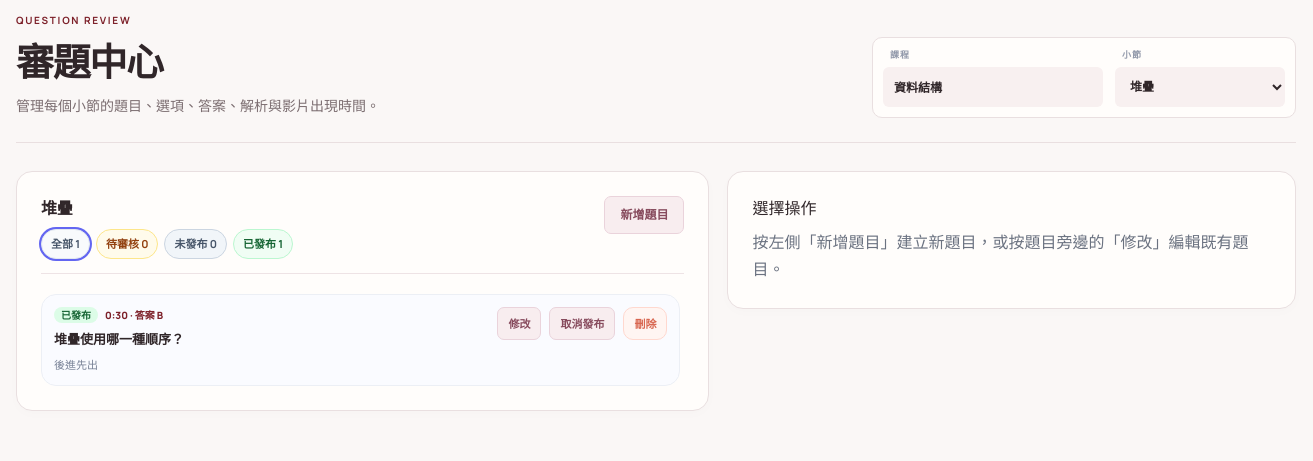
Test: unpublishes a published question and updates the review list
Click the button "取消發布" at (582, 324), box [549,307,615,340]
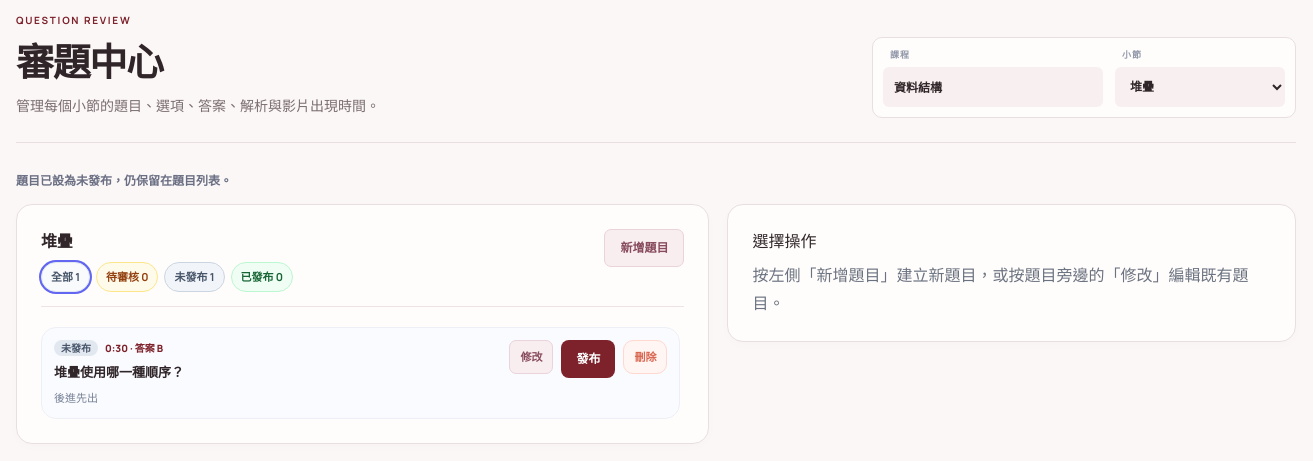
Expected: the text "題目已設為未發布，仍保留在題目列表。" is shown, [16,172,232,189]
Expected: the button "未發布 1" is shown, [164,262,224,292]
Expected: the button "已發布 0" is shown, [230,262,293,292]
